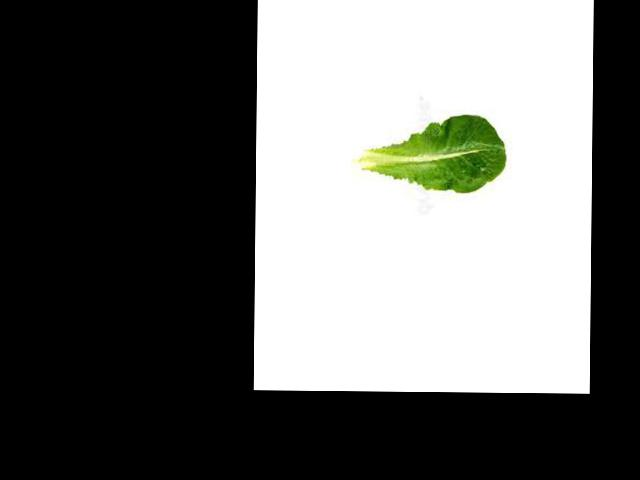lettuce: (353, 114, 505, 194)
